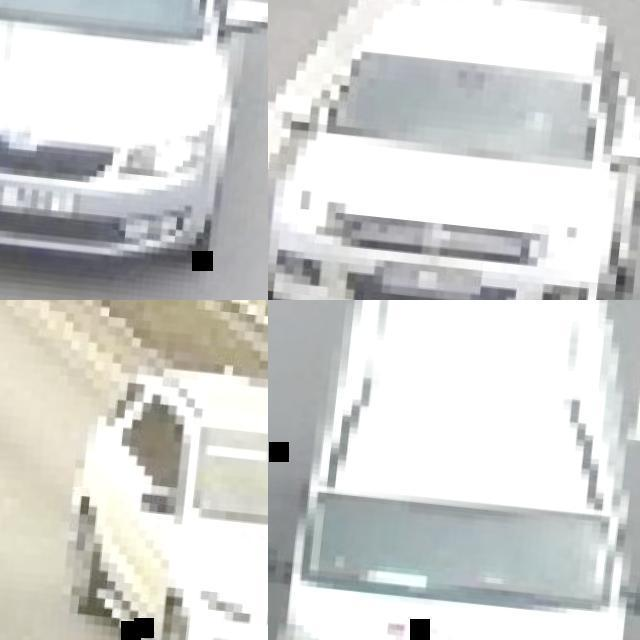car: (140, 0, 639, 639)
